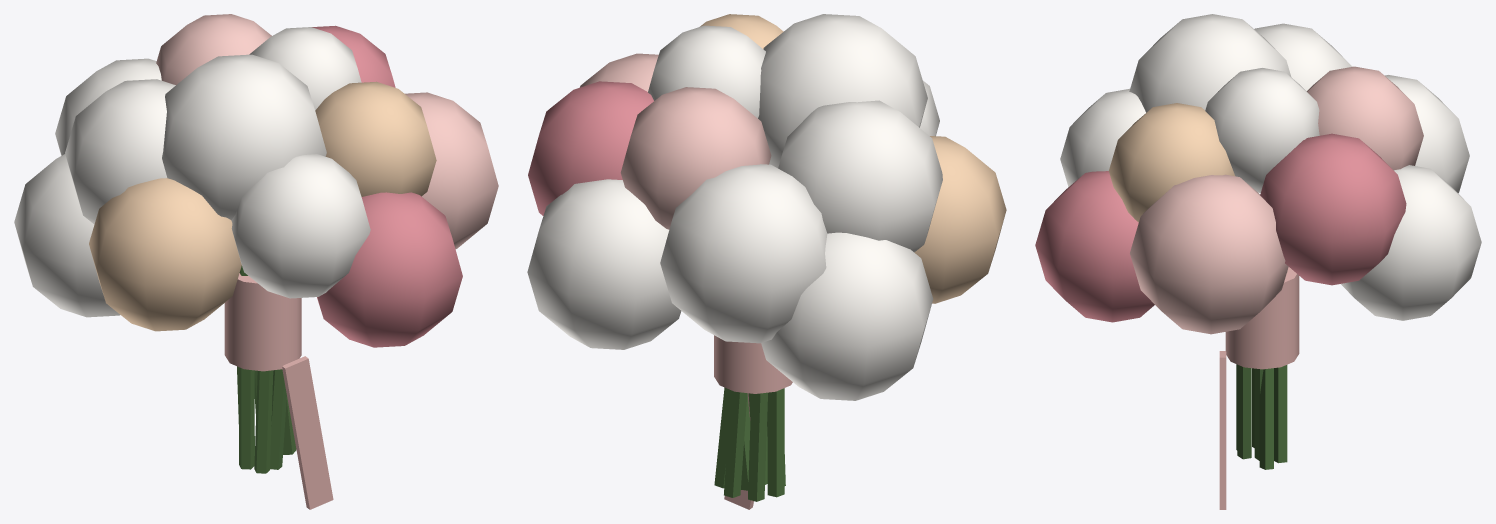
File: bouquet.glb
3 renders of one model, left to right at view 1: azimuth 30°, elevation 25°; view 2: azimuth 150°, elevation 25°; view 3: azimuth 270°, elevation 25°, orthographic. The views are drawn at different scales.
Visible parts, largest first — view 1: flowerWhite9, flowerPeach17, flowerRose19, flowerWhite14, flowerPeach11, flowerWhite12, flowerWhite20, flowerBlush16, sash7, flowerWhite8, flowerBlush10, sash22 (+5 smaller); view 2: flowerWhite15, flowerWhite20, flowerWhite18, flowerWhite12, flowerWhite9, flowerBlush10, flowerRose13, flowerPeach17, flowerWhite8, sash7, leaf3, leaf4 (+6 smaller); view 3: flowerBlush16, flowerRose13, flowerWhite18, flowerRose19, flowerWhite9, flowerWhite8, flowerPeach11, flowerBlush10, sash7, flowerWhite14, flowerWhite15, flowerWhite12 (+5 smaller).
Boxes of the visible parts, <box> form: flowerWhite9: <box>162,54,326,220</box>; flowerPeach17: <box>89,178,241,331</box>; flowerRose19: <box>317,192,462,347</box>; flowerWhite14: <box>231,154,370,298</box>; flowerPeach11: <box>315,81,436,196</box>; flowerWhite12: <box>65,79,175,224</box>; flowerWhite20: <box>14,154,119,317</box>; flowerBlush16: <box>405,92,498,249</box>; sash7: <box>224,273,301,371</box>; flowerWhite8: <box>249,27,361,110</box>; flowerBlush10: <box>156,14,271,84</box>; sash22: <box>282,356,333,509</box>; flowerWhite15: <box>660,164,827,343</box>; flowerWhite20: <box>761,232,933,400</box>; flowerWhite18: <box>527,179,681,349</box>; flowerWhite12: <box>778,100,942,252</box>; flowerWhite9: <box>758,14,927,168</box>; flowerBlush10: <box>620,87,771,229</box>; flowerRose13: <box>528,81,653,215</box>; flowerPeach17: <box>914,136,1006,303</box>; flowerWhite8: <box>648,25,765,118</box>; sash7: <box>714,335,792,393</box>; leaf3: <box>767,388,784,497</box>; leaf4: <box>748,392,767,501</box>; flowerBlush16: <box>1130,174,1288,334</box>; flowerRose13: <box>1260,133,1406,285</box>; flowerWhite18: <box>1341,165,1481,320</box>; flowerRose19: <box>1035,171,1154,322</box>; flowerWhite9: <box>1129,14,1291,112</box>; flowerWhite8: <box>1205,68,1319,192</box>; flowerPeach11: <box>1109,103,1234,222</box>; flowerBlush10: <box>1307,66,1423,170</box>; sash7: <box>1225,267,1299,369</box>; flowerWhite14: <box>1060,88,1145,186</box>; flowerWhite15: <box>1385,75,1469,193</box>; flowerWhite12: <box>1254,23,1352,91</box>.
Bounding box in the file's own units: 0.335 × 0.3758 × 0.34.
